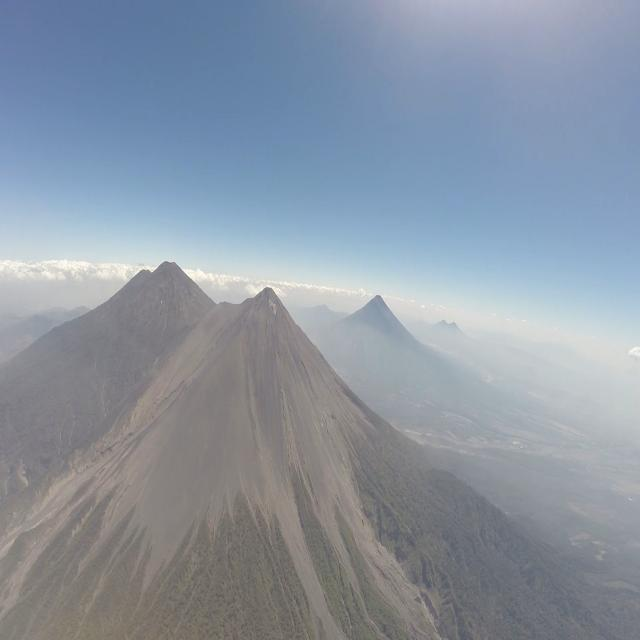Summit: (250, 286, 284, 308)
